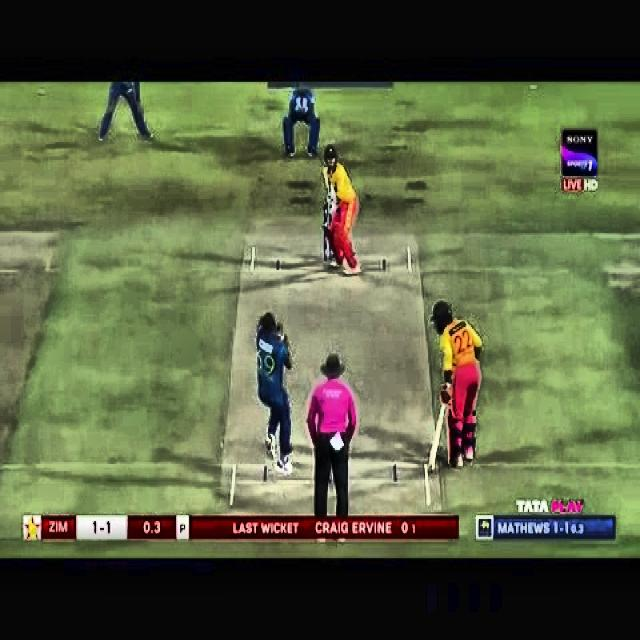Left-stump: (324, 209, 327, 262)
Middle-stump: (330, 243, 334, 261)
